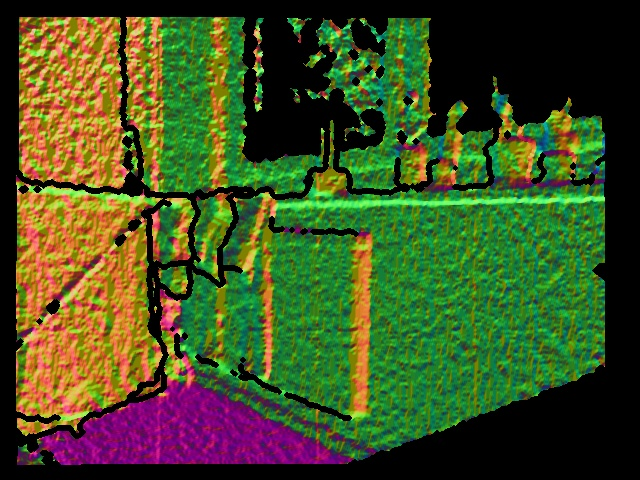station: (309, 121, 350, 195)
